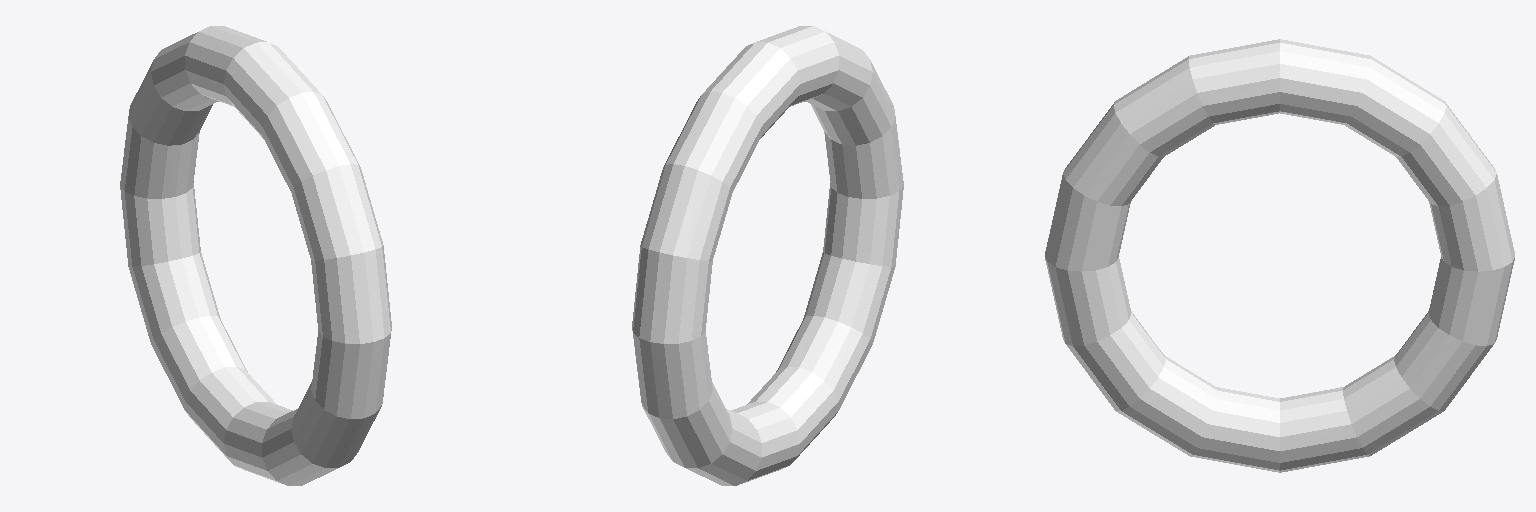
File: Argolla.obj
3 renders of one model, left to right at view 1: azimuth 30°, elevation 25°; view 2: azimuth 150°, elevation 25°; view 3: azimuth 270°, elevation 25°, orthographic.
Parts seen in each view (by area): view 1: Argolla.001; view 2: Argolla.001; view 3: Argolla.001.
Part boxes in pixels (x1,y1,x2,y2): Argolla.001: (120,26,391,485); Argolla.001: (632,26,903,485); Argolla.001: (1045,39,1514,472).
Bounding box in the file's own units: 0.0024 × 0.0154 × 0.0154.